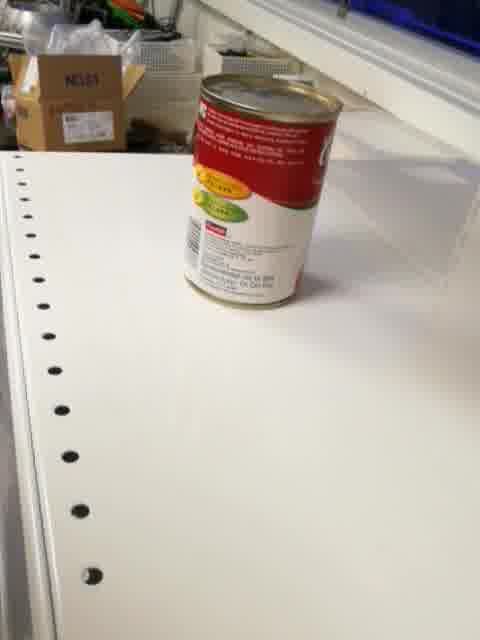tomatosoup: (182, 73, 345, 313)
